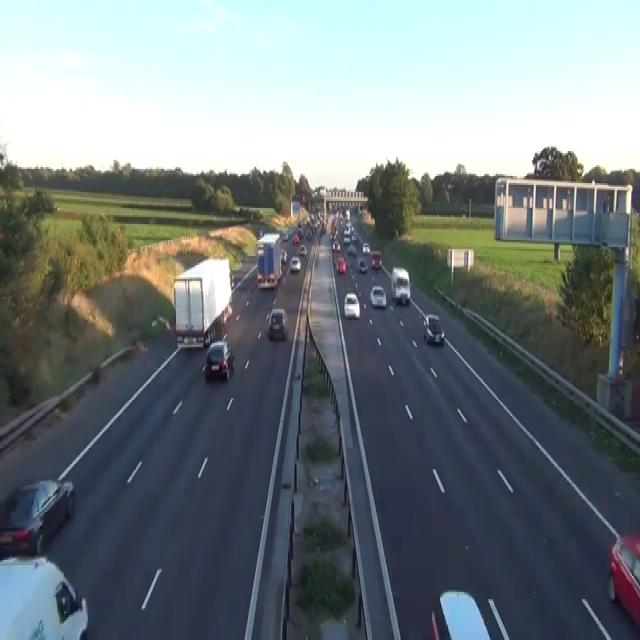Car: (0, 553, 88, 638), (0, 476, 75, 554), (430, 588, 491, 638), (608, 534, 639, 628), (0, 521, 42, 555), (201, 340, 234, 380), (423, 313, 445, 345), (268, 308, 287, 340), (343, 292, 360, 318), (369, 284, 386, 308), (370, 249, 382, 268), (335, 254, 346, 274), (157, 315, 171, 329), (289, 256, 301, 272), (225, 295, 232, 318), (357, 258, 367, 272), (279, 229, 288, 242), (347, 244, 356, 256), (280, 249, 287, 263), (298, 244, 306, 256), (343, 231, 350, 244), (332, 240, 340, 251), (362, 242, 370, 252), (292, 233, 300, 243), (351, 231, 357, 242), (306, 229, 312, 240), (297, 228, 303, 238), (282, 231, 288, 240), (300, 196, 306, 204), (258, 228, 263, 236), (330, 231, 334, 240)
Truck: (173, 256, 232, 348), (256, 233, 281, 290), (390, 267, 410, 304)
